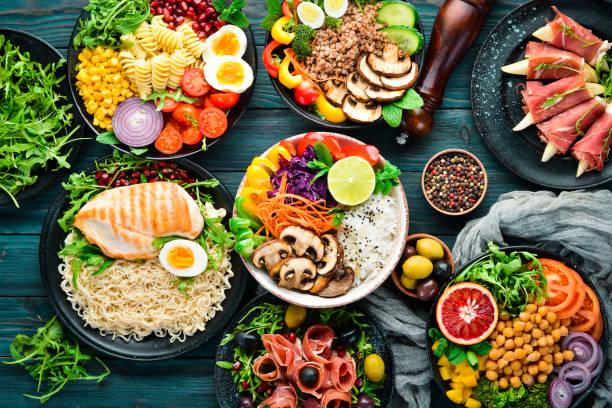Braised Crucian Carp: (39, 156, 244, 361), (229, 130, 403, 304), (428, 246, 609, 407), (67, 1, 249, 158), (470, 1, 610, 189), (211, 290, 394, 405), (265, 0, 424, 132)
